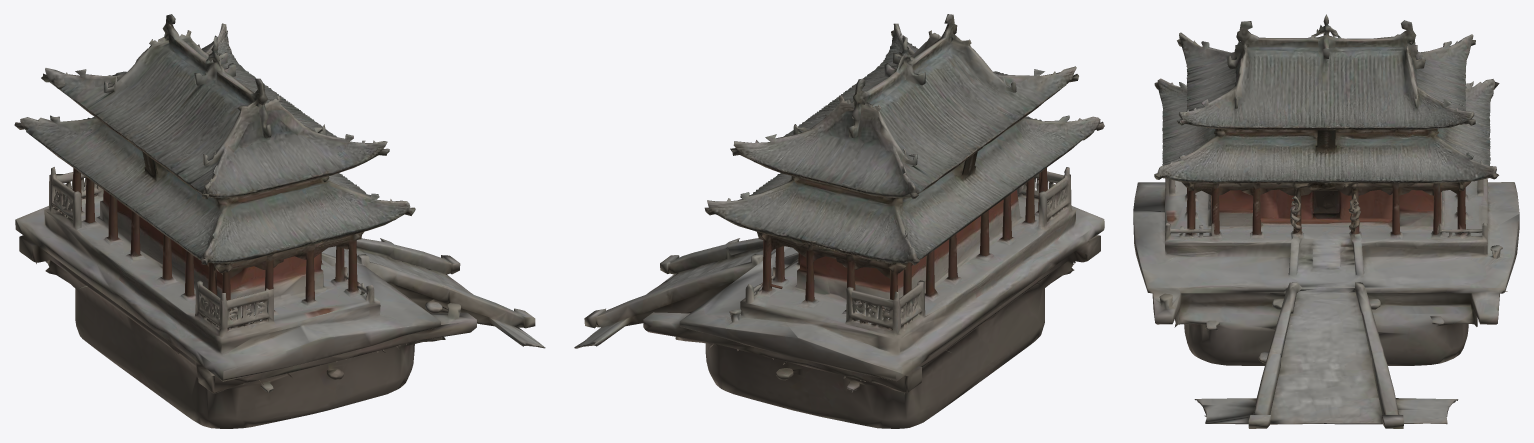
Rendered from building-jinci.glb.
The picture shows the model from 3 angles, left to right: view 1: azimuth 30°, elevation 25°; view 2: azimuth 150°, elevation 25°; view 3: azimuth 270°, elevation 25°; orthographic projection. The views are drawn at different scales.
Visible parts, largest first — view 1: node_956f4279-d4ea-423e-a1a1-3434cb4e143d; view 2: node_956f4279-d4ea-423e-a1a1-3434cb4e143d; view 3: node_956f4279-d4ea-423e-a1a1-3434cb4e143d.
Boxes of the visible parts, x1,y1,x2,y2 form: node_956f4279-d4ea-423e-a1a1-3434cb4e143d: (14, 14, 545, 428); node_956f4279-d4ea-423e-a1a1-3434cb4e143d: (574, 14, 1104, 428); node_956f4279-d4ea-423e-a1a1-3434cb4e143d: (1133, 14, 1519, 428).
Bounding box in the file's own units: 0.9997 × 0.8052 × 0.9581.
1 material, 1 textured.
